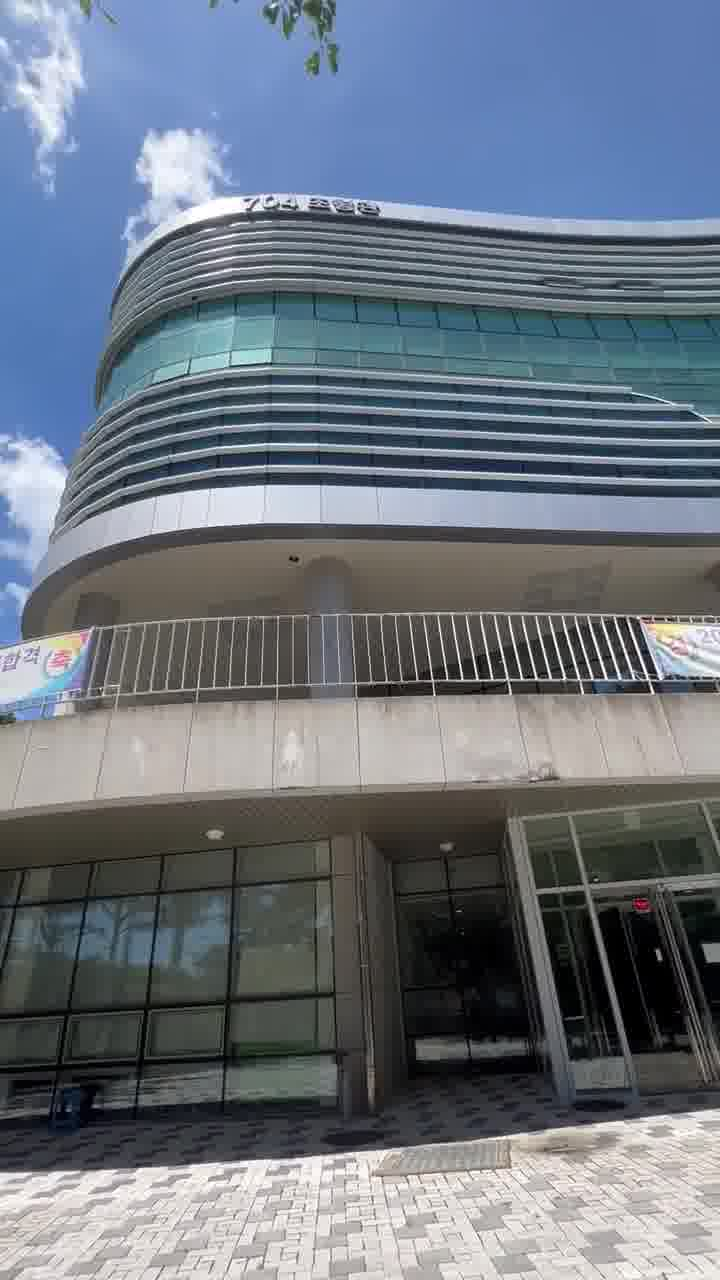high: (0, 168, 720, 1094)
